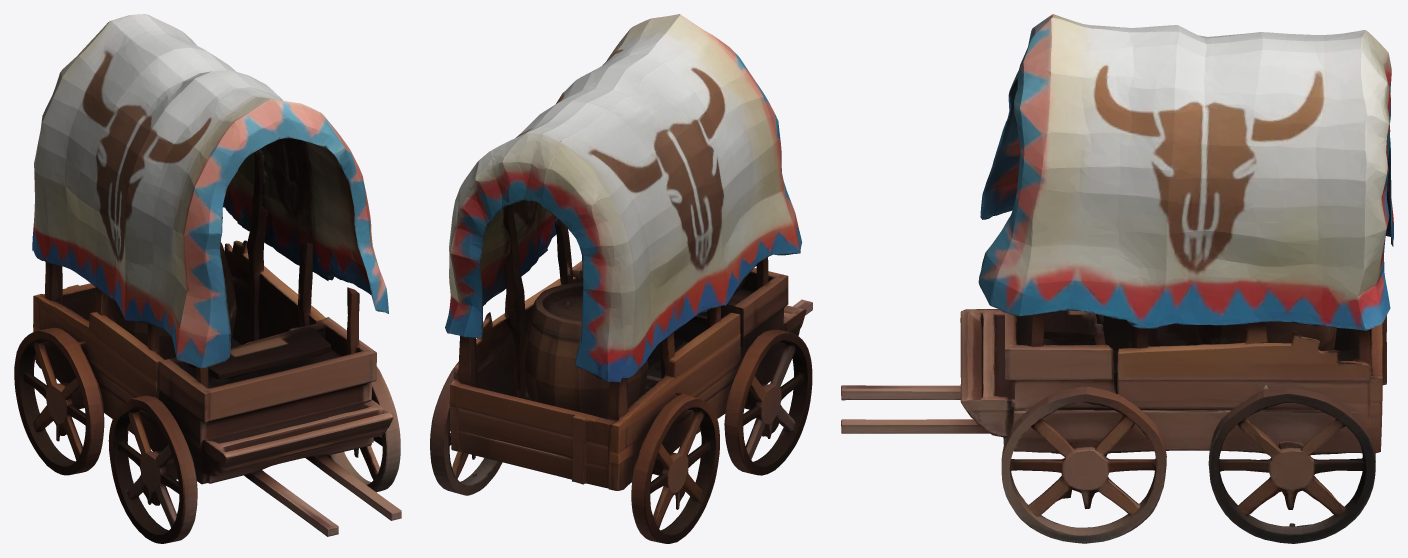
File: 3deditformer_t01.glb
3 renders of one model, left to right at view 1: azimuth 30°, elevation 25°; view 2: azimuth 150°, elevation 25°; view 3: azimuth 270°, elevation 25°, orthographic. The views are drawn at different scales.
Parts seen in each view (by area): view 1: geometry_0; view 2: geometry_0; view 3: geometry_0.
Boxes of the visible parts, <box> form: geometry_0: <box>14,14,401,543</box>; geometry_0: <box>430,14,812,543</box>; geometry_0: <box>841,14,1393,543</box>.
Size of the model in its own units: 1 by 1.87 by 1.99.
1 material, 1 textured.
